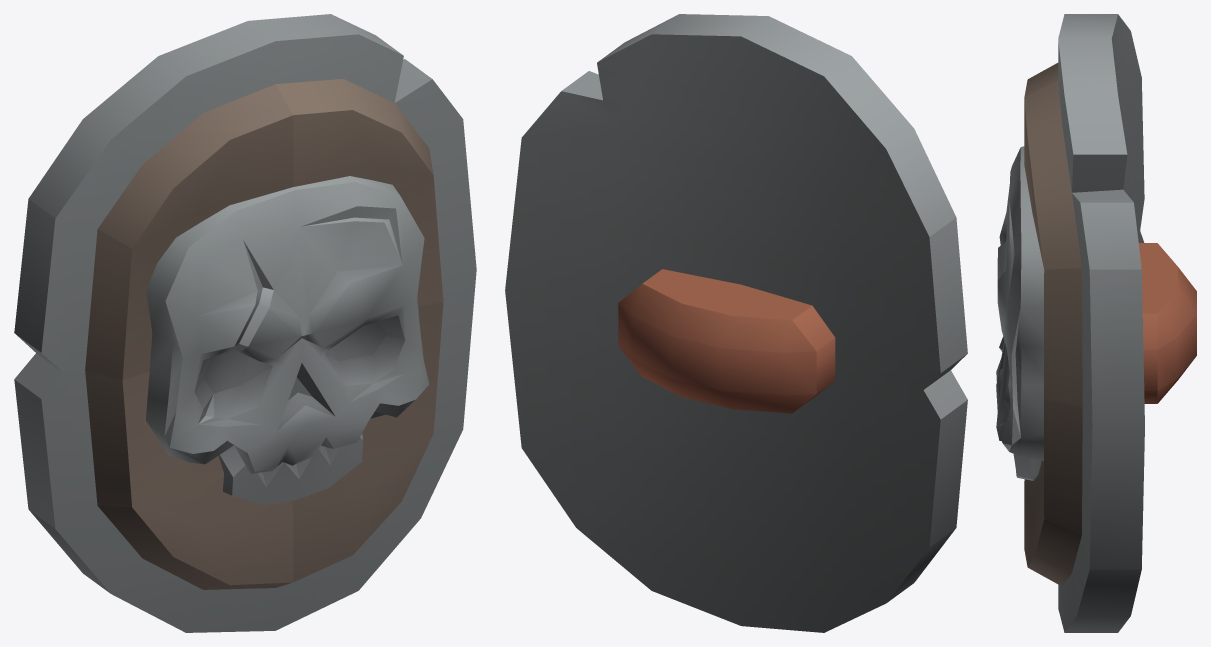
Rendered from Skeleton_Shield_Large_A.glb.
3 views of the same model, side by side, from view 1: azimuth 30°, elevation 25°; view 2: azimuth 150°, elevation 25°; view 3: azimuth 270°, elevation 25° (orthographic). The views are drawn at different scales.
Visible parts, largest first — view 1: Skeleton_Shield_Large_A; view 2: Skeleton_Shield_Large_A; view 3: Skeleton_Shield_Large_A.
Part boxes in pixels (x1=…): Skeleton_Shield_Large_A: x1=14, y1=14, x2=476, y2=632; Skeleton_Shield_Large_A: x1=505, y1=14, x2=967, y2=632; Skeleton_Shield_Large_A: x1=996, y1=14, x2=1196, y2=632.
Size of the model in its own units: 0.8771 by 1.13 by 0.3625.
1 material, 1 textured.
